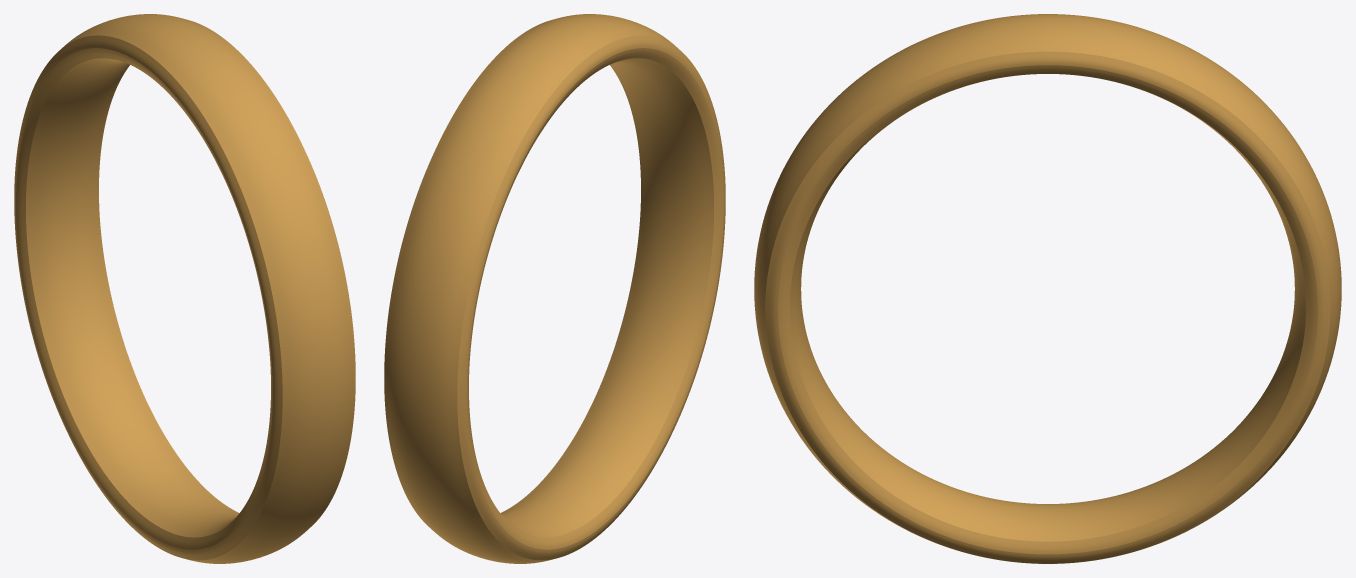
The picture shows the model from 3 angles, left to right: view 1: azimuth 30°, elevation 25°; view 2: azimuth 150°, elevation 25°; view 3: azimuth 270°, elevation 25°; orthographic projection. The views are drawn at different scales.
Visible parts, largest first — view 1: P2-Outer, P2-Inner, P2 Sides; view 2: P2-Outer, P2-Inner, P2 Sides; view 3: P2 Sides, P2-Outer, P2-Inner.
Boxes of the visible parts, box(x1,y1,x2,y2) form: P2-Outer: box(59, 14, 355, 563); P2-Inner: box(26, 58, 239, 537); P2 Sides: box(14, 35, 354, 560); P2-Outer: box(384, 14, 680, 563); P2-Inner: box(500, 58, 713, 537); P2 Sides: box(385, 35, 725, 560); P2 Sides: box(765, 51, 1330, 563); P2-Outer: box(754, 14, 1341, 563); P2-Inner: box(790, 74, 1305, 541).
Bounding box in the file's own units: 0.00399 × 0.0238 × 0.0238.
